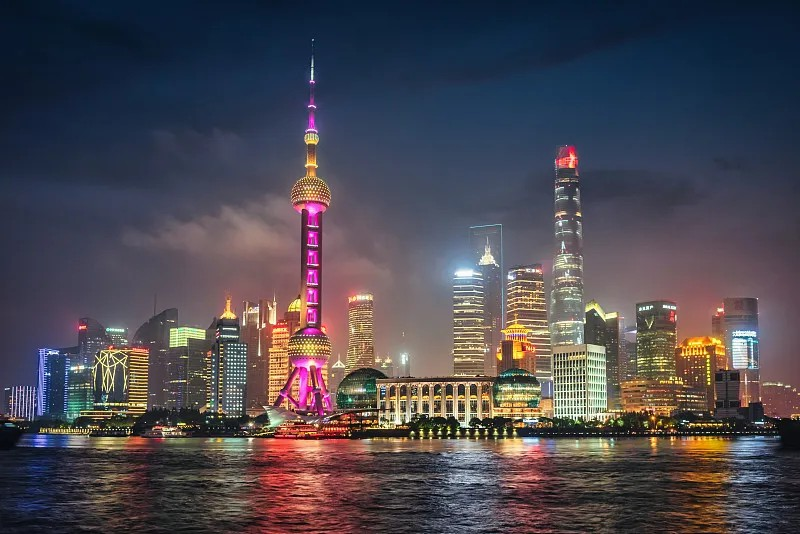Oriental: (273, 39, 334, 414)
